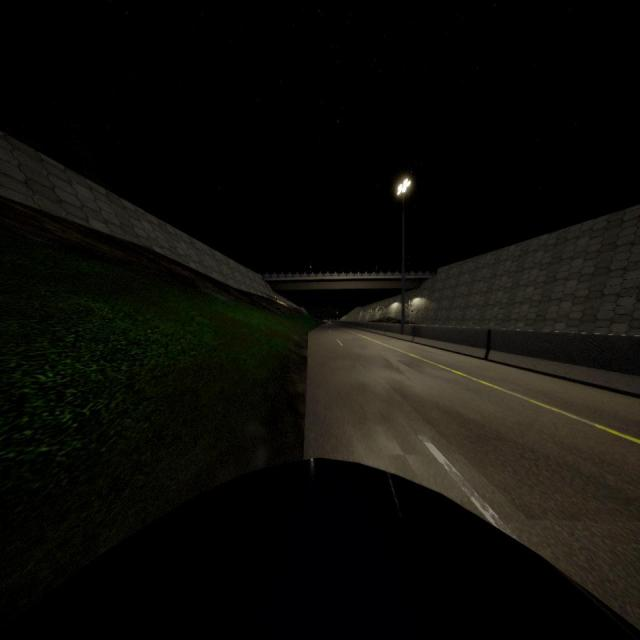Vehicle: (1, 461, 640, 640)
